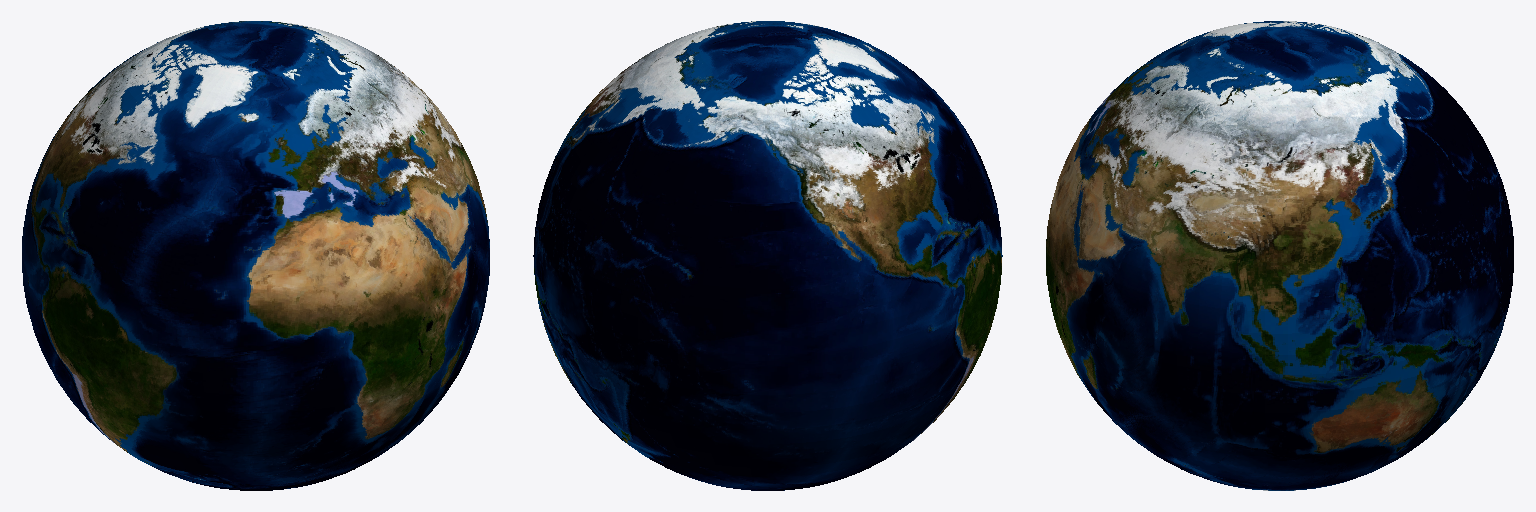
3 views of the same model, side by side, from view 1: azimuth 30°, elevation 25°; view 2: azimuth 150°, elevation 25°; view 3: azimuth 270°, elevation 25° (orthographic).
Visible parts, largest first — view 1: object_1; view 2: object_1; view 3: object_1.
Part boxes in pixels (x1,y1,x2,y2): object_1: (22,21,489,490); object_1: (533,21,1002,490); object_1: (1046,21,1513,490).
Bounding box in the file's own units: 126 × 126 × 126.
Materials: 1 (1 with a texture image).